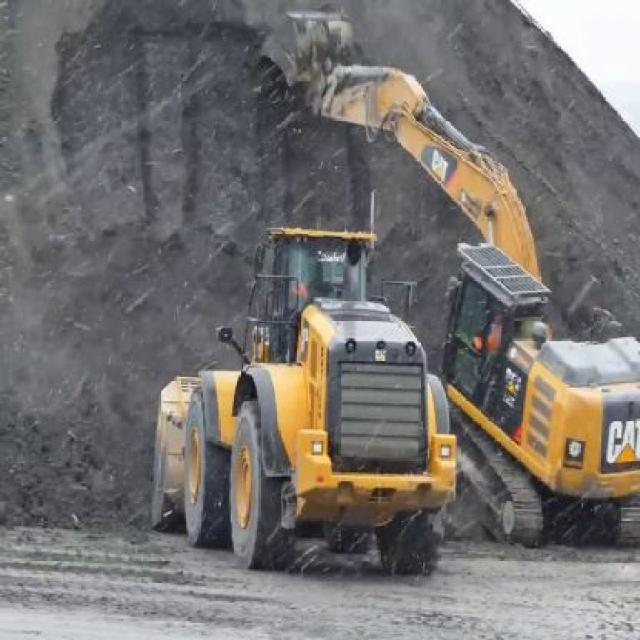buldozerpayloadergrader: (148, 219, 454, 567)
excavator: (253, 9, 639, 548)
